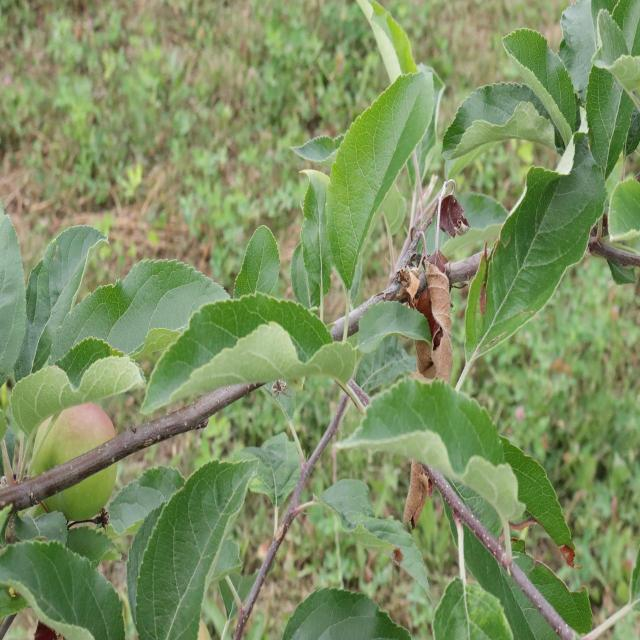-FireBlight-: (377, 261, 458, 367)
